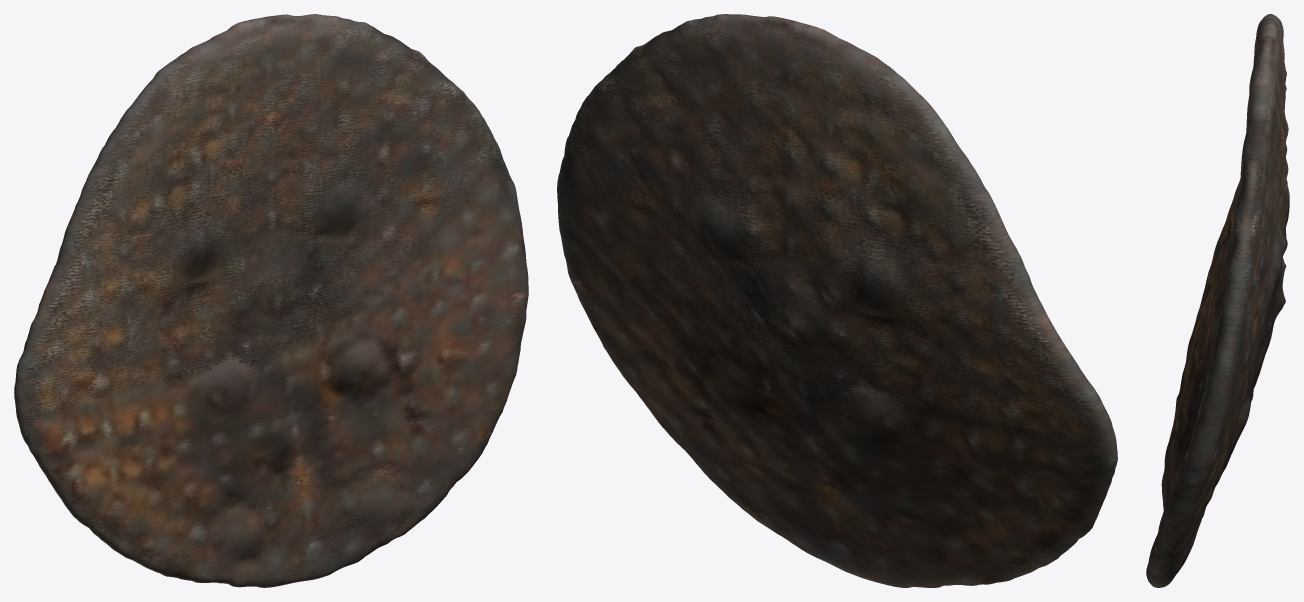
File: kfl-2315.glb
3 views of the same model, side by side, from view 1: azimuth 30°, elevation 25°; view 2: azimuth 150°, elevation 25°; view 3: azimuth 270°, elevation 25° (orthographic). The views are drawn at different scales.
Visible parts, largest first — view 1: geometry_0; view 2: geometry_0; view 3: geometry_0.
Part boxes in pixels (x1,y1,x2,y2): geometry_0: [14, 14, 528, 587]; geometry_0: [557, 14, 1117, 587]; geometry_0: [1146, 14, 1289, 587].
Bounding box in the file's own units: 0.9792 × 0.986 × 0.239.
Materials: 1 (1 with a texture image).
